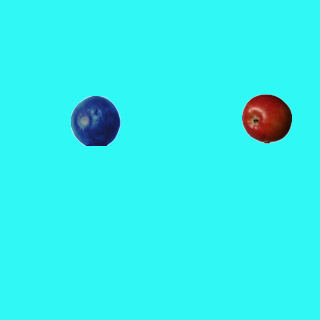Apple Braeburn: (241, 93, 291, 143)
Huckleberry: (70, 95, 120, 145)
